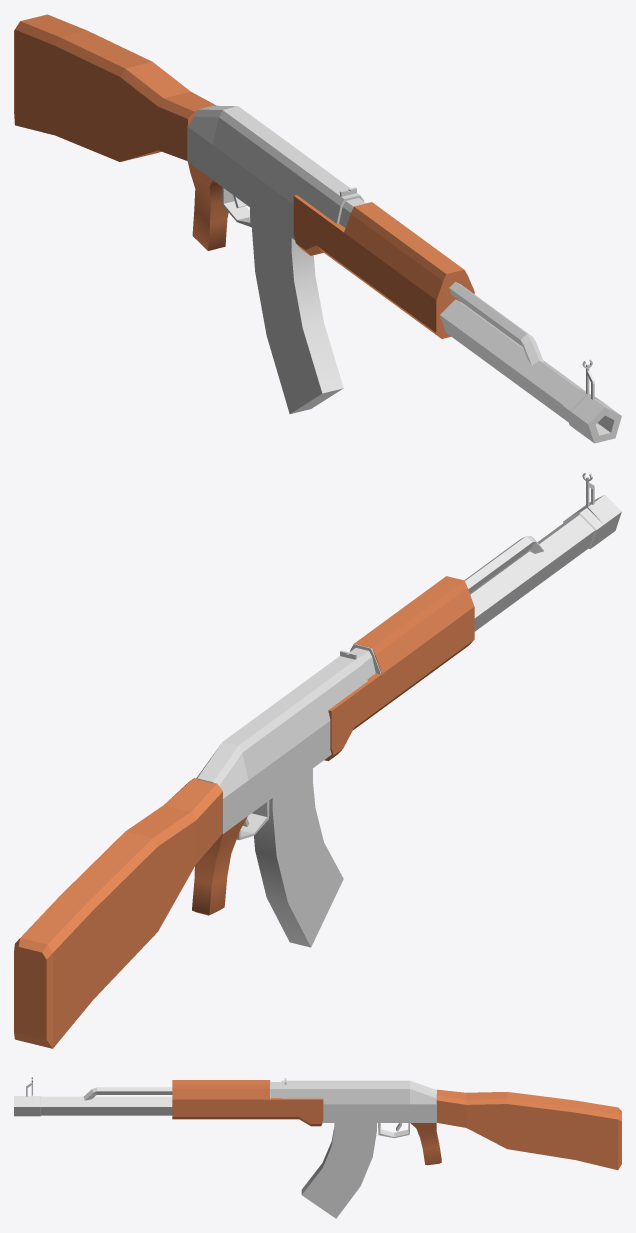
The picture shows the model from 3 angles, top to bottom: view 1: azimuth 30°, elevation 25°; view 2: azimuth 150°, elevation 25°; view 3: azimuth 270°, elevation 25°; orthographic projection. The views are drawn at different scales.
Visible parts, largest first — view 1: Cube, Cube.001, Cube.002, Cylinder, Cube.003; view 2: Cube, Cube.001, Cube.002, Cylinder, Cube.003; view 3: Cube, Cube.001, Cube.002, Cylinder, Cube.003.
Part boxes in pixels (x1=…): Cube: x1=14, y1=14, x2=474, y2=338; Cube.001: x1=187, y1=105, x2=370, y2=239; Cube.002: x1=251, y1=208, x2=343, y2=413; Cylinder: x1=440, y1=282, x2=621, y2=443; Cube.003: x1=188, y1=162, x2=228, y2=250; Cube: x1=14, y1=576, x2=474, y2=1048; Cube.001: x1=196, y1=644, x2=381, y2=840; Cube.002: x1=254, y1=768, x2=343, y2=947; Cylinder: x1=464, y1=472, x2=621, y2=631; Cube.003: x1=192, y1=816, x2=247, y2=915; Cube: x1=172, y1=1080, x2=621, y2=1170; Cube.001: x1=270, y1=1078, x2=436, y2=1138; Cube.002: x1=301, y1=1123, x2=376, y2=1218; Cylinder: x1=14, y1=1077, x2=172, y2=1116; Cube.003: x1=410, y1=1123, x2=441, y2=1165.
Bounding box in the file's own units: 0.2271 × 1.49 × 5.95.
